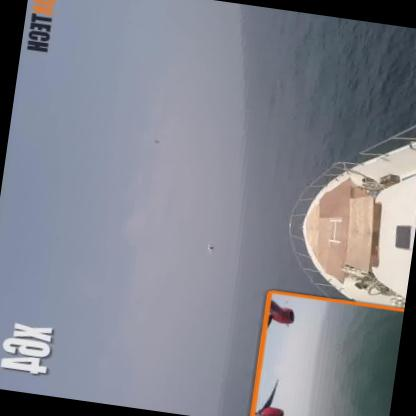drone: (201, 238, 221, 256)
